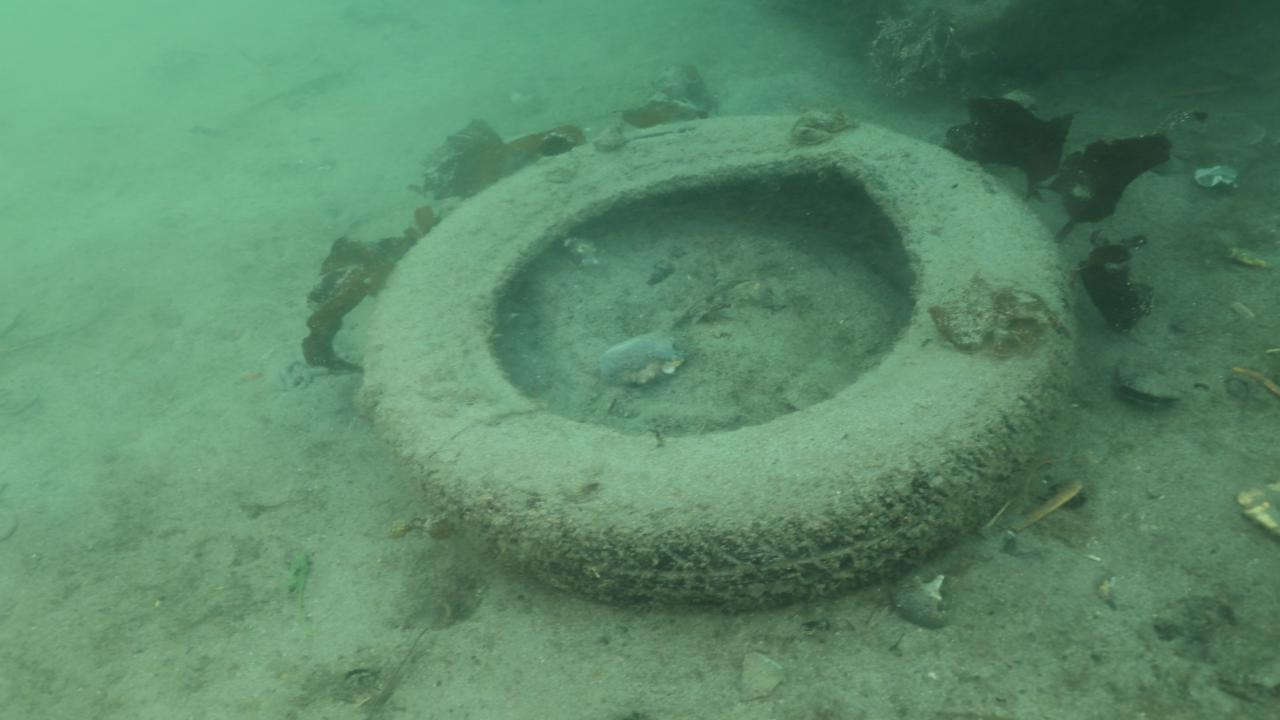tire: (375, 111, 1077, 613)
